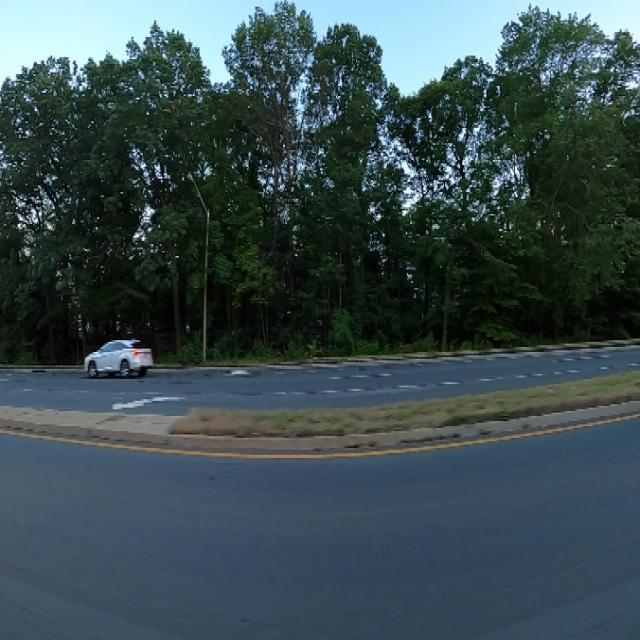car: (76, 325, 159, 389)
